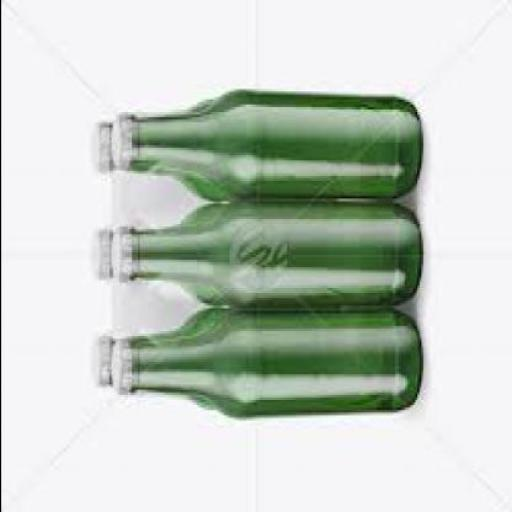glass: (130, 89, 420, 199), (129, 304, 420, 410), (130, 199, 418, 298), (108, 303, 245, 405), (108, 96, 224, 198), (110, 202, 220, 304), (112, 306, 220, 404)
metal: (108, 222, 134, 280), (90, 326, 114, 382), (108, 106, 128, 166), (108, 336, 127, 390), (90, 218, 109, 272), (90, 117, 108, 169)
